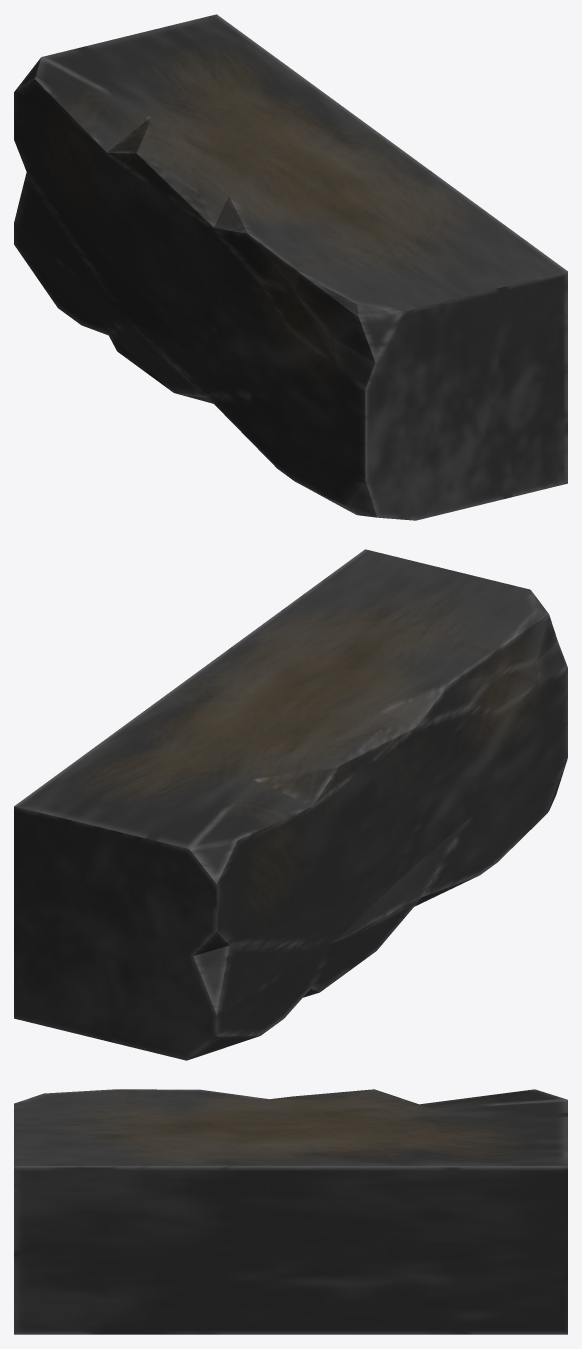
Rendered from step.fbx.
3 views of the same model, one above another, from view 1: azimuth 30°, elevation 25°; view 2: azimuth 150°, elevation 25°; view 3: azimuth 270°, elevation 25° (orthographic). The views are drawn at different scales.
Visible parts, largest first — view 1: step; view 2: step; view 3: step.
Boxes of the visible parts, <box> form: step: <box>14,14,567,520</box>; step: <box>14,549,567,1060</box>; step: <box>14,1089,567,1334</box>.
Size of the model in its own units: 0.2044 by 0.1978 by 0.5934.
